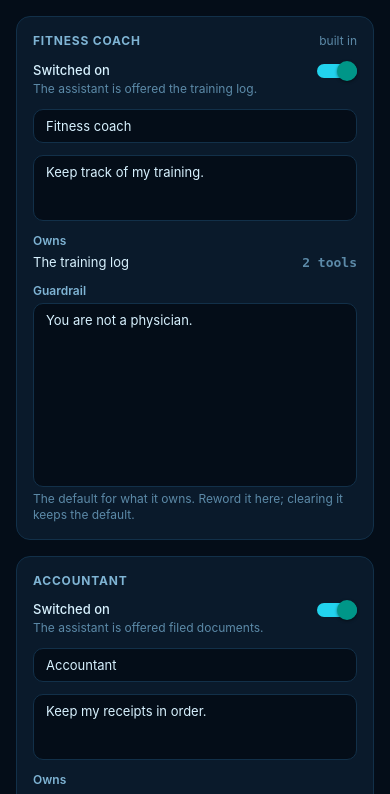
Test: keeps the switch where it was when the write is refused, and says why
Click the switch with test id "agent-1-enabled" at (337, 71), box [317, 61, 357, 81]
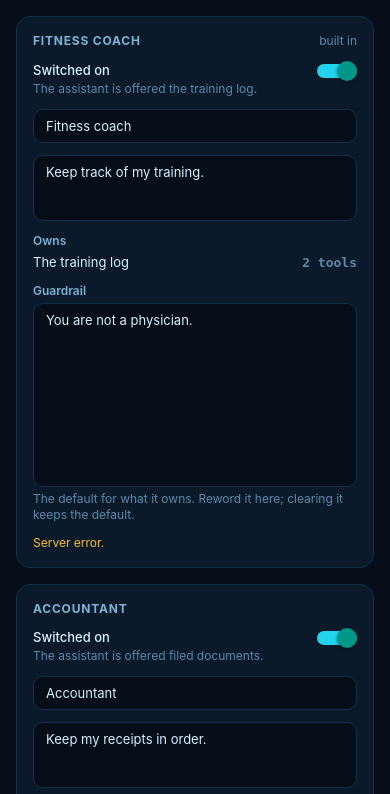
Expected: the text "Server error." is shown, [33, 535, 104, 550]
